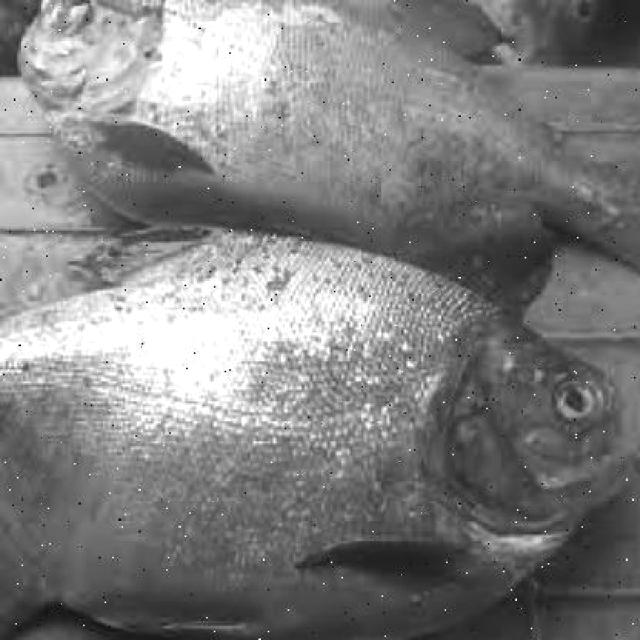ikan-pacu: (1, 222, 638, 640), (18, 0, 629, 255)
